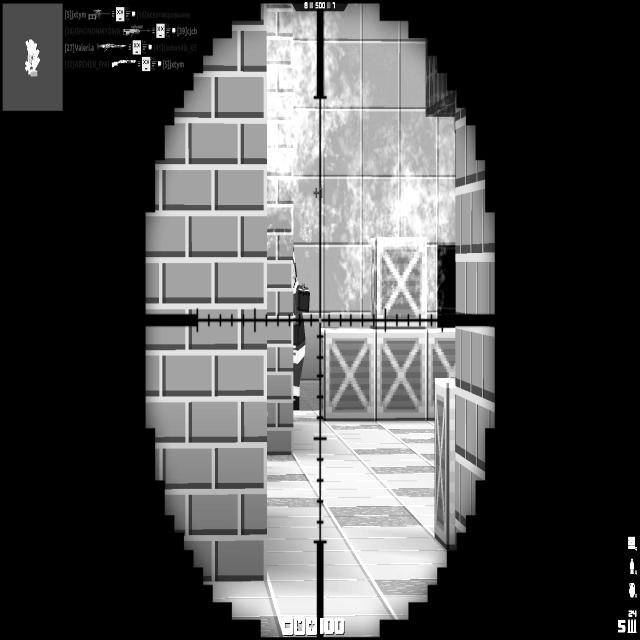Head: (292, 242, 298, 290)
Player: (291, 252, 310, 410)
